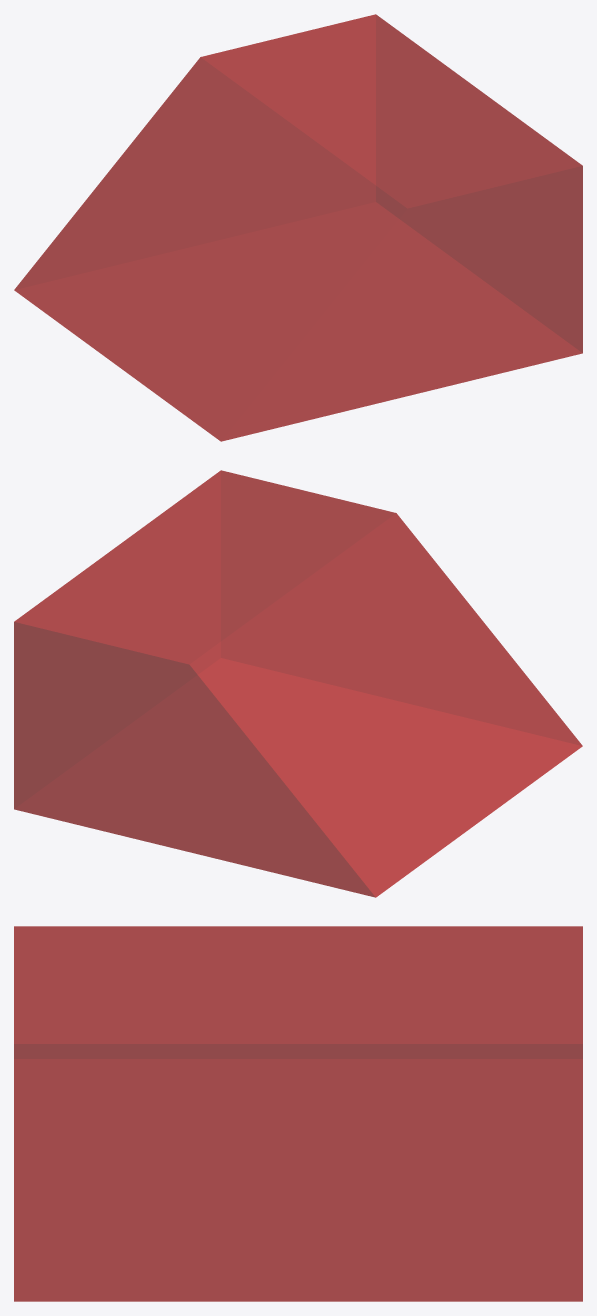
Rendered from SM_Bld_Stairs_Straight_Wide_02_Collision.fbx.
3 renders of one model, top to bottom at view 1: azimuth 30°, elevation 25°; view 2: azimuth 150°, elevation 25°; view 3: azimuth 270°, elevation 25°, orthographic. The views are drawn at different scales.
Parts seen in each view (by area): view 1: SM_Bld_Stairs_Straight_Wide_02_Collision; view 2: SM_Bld_Stairs_Straight_Wide_02_Collision; view 3: SM_Bld_Stairs_Straight_Wide_02_Collision.
Part boxes in pixels (box(x1,y1,x2,y2)): SM_Bld_Stairs_Straight_Wide_02_Collision: box(14, 14, 582, 441); SM_Bld_Stairs_Straight_Wide_02_Collision: box(14, 470, 582, 897); SM_Bld_Stairs_Straight_Wide_02_Collision: box(14, 926, 582, 1301).
Size of the model in its own units: 505 by 250 by 500.
